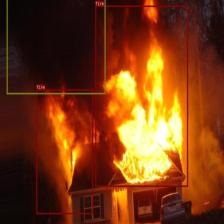fire: (95, 5, 188, 187), (36, 89, 93, 214)
smoke: (6, 0, 105, 94)
